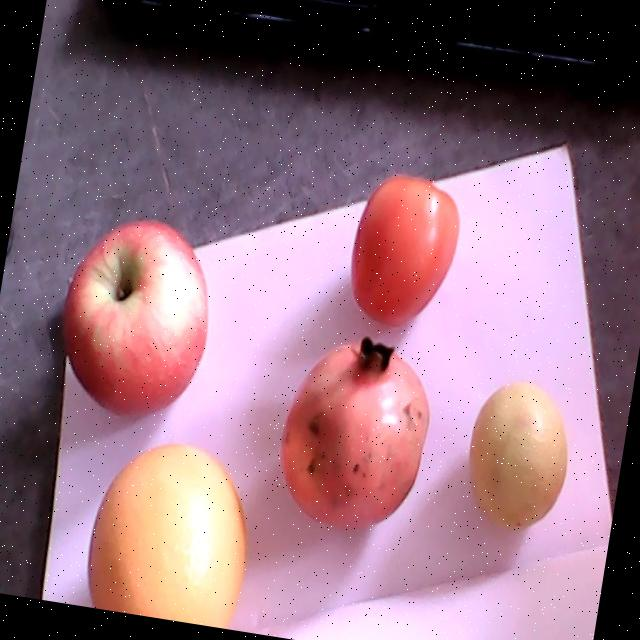apple: (62, 221, 209, 419)
lemon: (469, 385, 567, 530)
orange: (89, 447, 246, 628)
pomegranate: (278, 336, 429, 531)
tomato: (352, 176, 459, 326)
